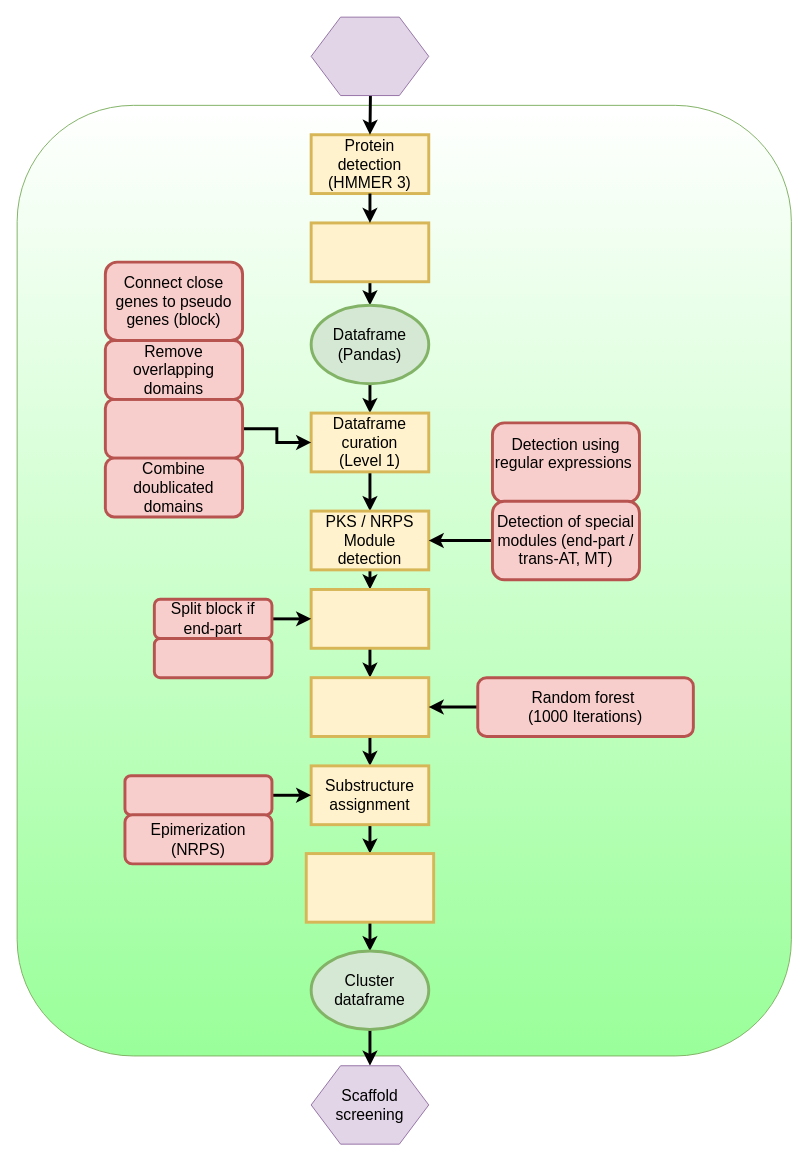
This 809x1161 diagram has some shape labels left out. The shapes that lost their labels are listed below. From the top down, each one's centre as x and y in pixels, then its label:
At point 369,56: "Input parsing".
At point 369,252: "GenBank conversion to Dataframe".
At point 173,428: "Assign new order based on strand side".
At point 369,618: "Dataframe curation (Level 2)".
At point 212,658: "Assign module index".
At point 369,706: "Specificity prediction".
At point 198,795: "Reduction profile (PKS)".
At point 369,887: "Combine blocks to cluster (based on distance)".
